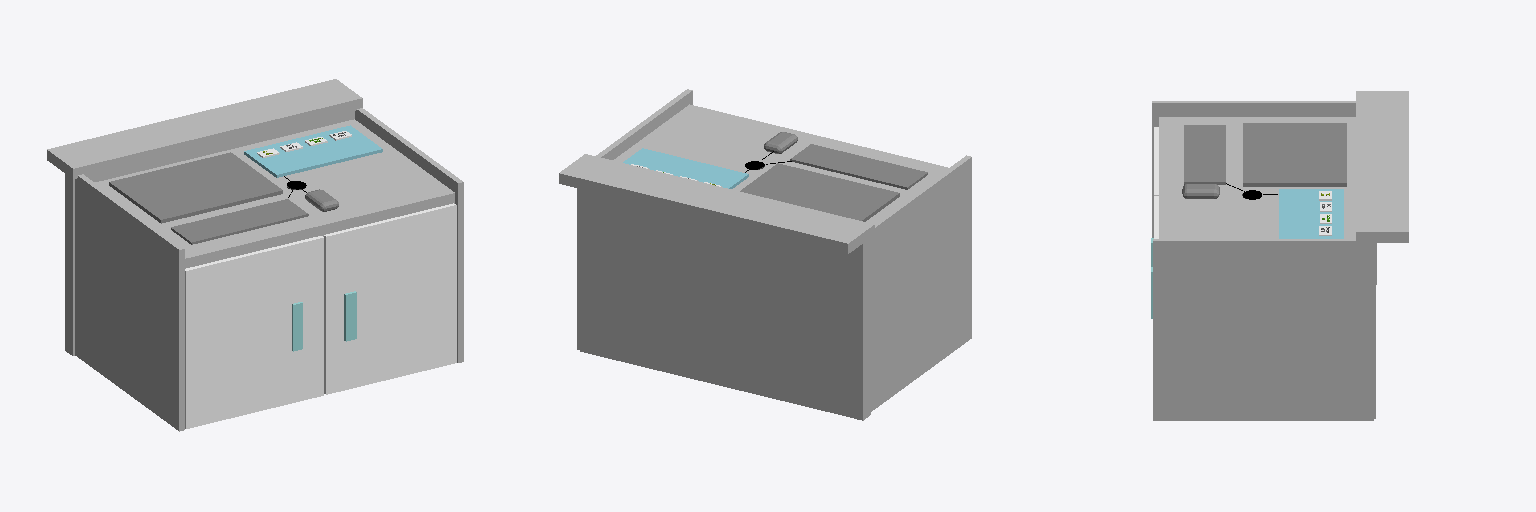
The model's file is desk.obj.
3 views of the same model, side by side, from view 1: azimuth 30°, elevation 25°; view 2: azimuth 150°, elevation 25°; view 3: azimuth 270°, elevation 25° (orthographic).
Parts seen in each view (by area): view 1: DeskDoor1, DeskDoor2, LeftOutBox, MainDesk, BackTop, PCScreen, BackOutBox, ControlDesk, RightOutBox, keyboard, Box07, Box06; view 2: BackOutBox, LeftOutBox, BackTop, MainDesk, PCScreen, keyboard, ControlDesk, RightOutBox; view 3: RightOutBox, MainDesk, BackTop, PCScreen, LeftOutBox, ControlDesk, keyboard, macMouse.
Boxes of the visible parts, x1=… form: DeskDoor1: x1=185, y1=236, x2=323, y2=428; DeskDoor2: x1=324, y1=203, x2=456, y2=394; LeftOutBox: x1=75, y1=174, x2=184, y2=431; MainDesk: x1=95, y1=119, x2=454, y2=268; BackTop: x1=47, y1=79, x2=362, y2=178; PCScreen: x1=109, y1=152, x2=282, y2=223; BackOutBox: x1=65, y1=111, x2=354, y2=355; ControlDesk: x1=244, y1=125, x2=382, y2=177; RightOutBox: x1=355, y1=108, x2=463, y2=362; keyboard: x1=171, y1=199, x2=308, y2=244; Box07: x1=344, y1=291, x2=356, y2=341; Box06: x1=292, y1=302, x2=302, y2=351; BackOutBox: x1=580, y1=189, x2=870, y2=420; LeftOutBox: x1=854, y1=155, x2=971, y2=419; BackTop: x1=559, y1=154, x2=874, y2=253; MainDesk: x1=613, y1=104, x2=948, y2=223; PCScreen: x1=740, y1=163, x2=899, y2=221; keyboard: x1=790, y1=144, x2=927, y2=189; ControlDesk: x1=623, y1=148, x2=748, y2=188; RightOutBox: x1=577, y1=89, x2=692, y2=349; RightOutBox: x1=1153, y1=239, x2=1373, y2=420; MainDesk: x1=1159, y1=117, x2=1355, y2=238; BackTop: x1=1356, y1=91, x2=1408, y2=242; PCScreen: x1=1243, y1=123, x2=1346, y2=186; LeftOutBox: x1=1152, y1=101, x2=1376, y2=284; ControlDesk: x1=1279, y1=189, x2=1343, y2=238; keyboard: x1=1184, y1=125, x2=1225, y2=184; macMouse: x1=1182, y1=184, x2=1219, y2=198.
Size of the model in its own units: 124 by 77.76 by 95.97.